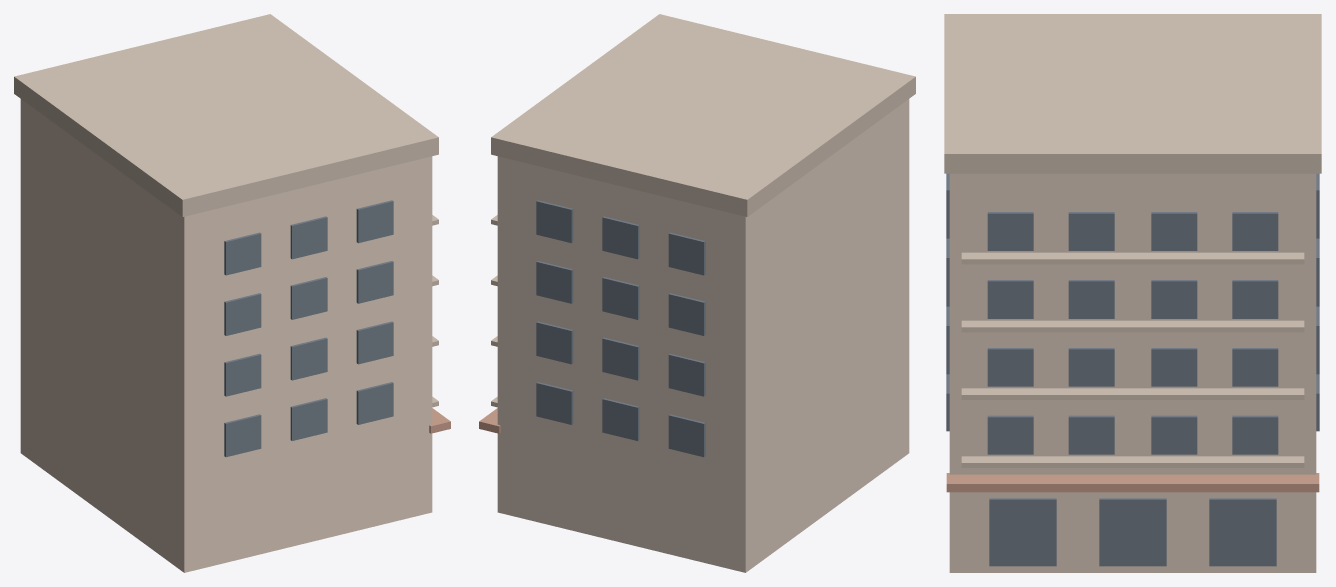
The model's file is coastal_building_mid.glb.
3 views of the same model, side by side, from view 1: azimuth 30°, elevation 25°; view 2: azimuth 150°, elevation 25°; view 3: azimuth 270°, elevation 25° (orthographic). The views are drawn at different scales.
Visible parts, largest first — view 1: coastal_building_mid; view 2: coastal_building_mid; view 3: coastal_building_mid.
Boxes of the visible parts, box(x1,y1,x2,y2) form: coastal_building_mid: box(14, 14, 450, 572); coastal_building_mid: box(479, 14, 915, 572); coastal_building_mid: box(944, 14, 1321, 572).
Size of the model in its own units: 11.4 by 15.2 by 12.35.
